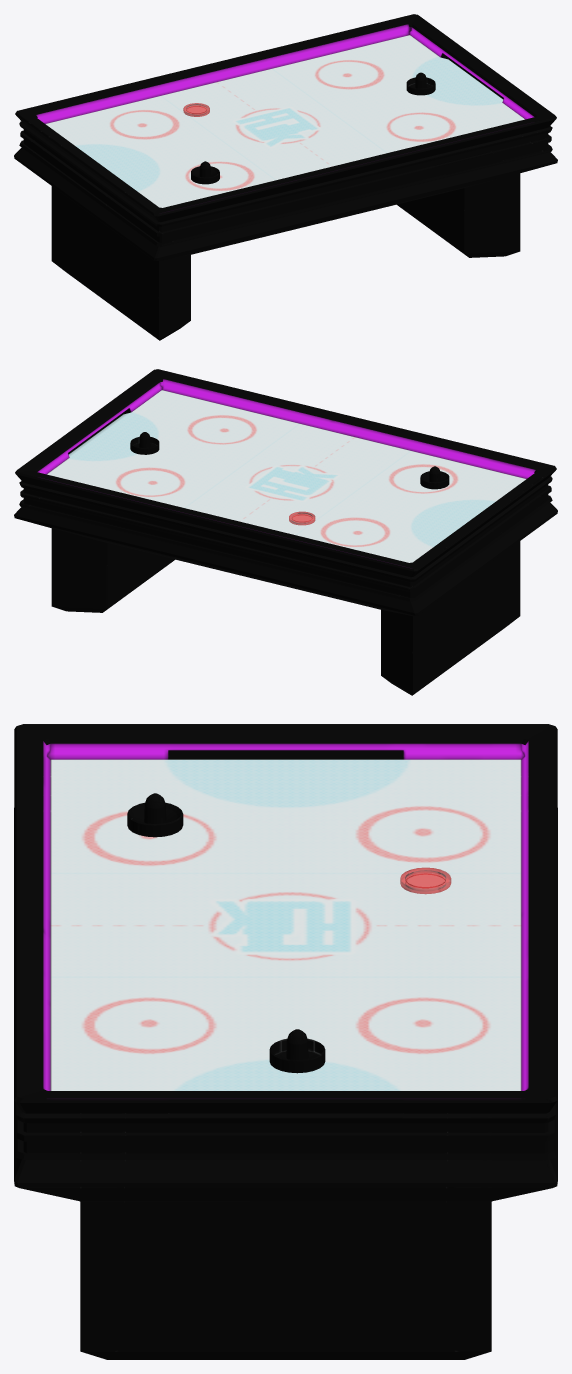
File: air_hockey_table.glb
The picture shows the model from 3 angles, top to bottom: view 1: azimuth 30°, elevation 25°; view 2: azimuth 150°, elevation 25°; view 3: azimuth 270°, elevation 25°; orthographic projection. The views are drawn at different scales.
Visible parts, largest first — view 1: Warehouse_Models:pCube2; view 2: Warehouse_Models:pCube2; view 3: Warehouse_Models:pCube2.
Boxes of the visible parts, x1=… form: Warehouse_Models:pCube2: x1=14, y1=14, x2=557, y2=340; Warehouse_Models:pCube2: x1=14, y1=369, x2=557, y2=695; Warehouse_Models:pCube2: x1=14, y1=724, x2=557, y2=1359.
Size of the model in its own units: 256 by 94.44 by 156.
Materials: 1 (1 with a texture image).
